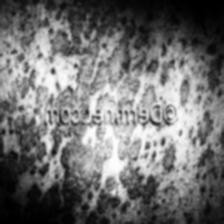Toxin: (77, 7, 140, 102), (62, 125, 115, 209), (163, 137, 177, 169)
